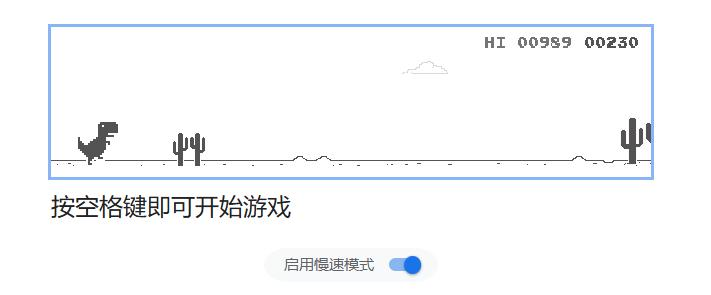cactus: (616, 118, 658, 169), (170, 130, 207, 169)
dino: (74, 118, 122, 166)
